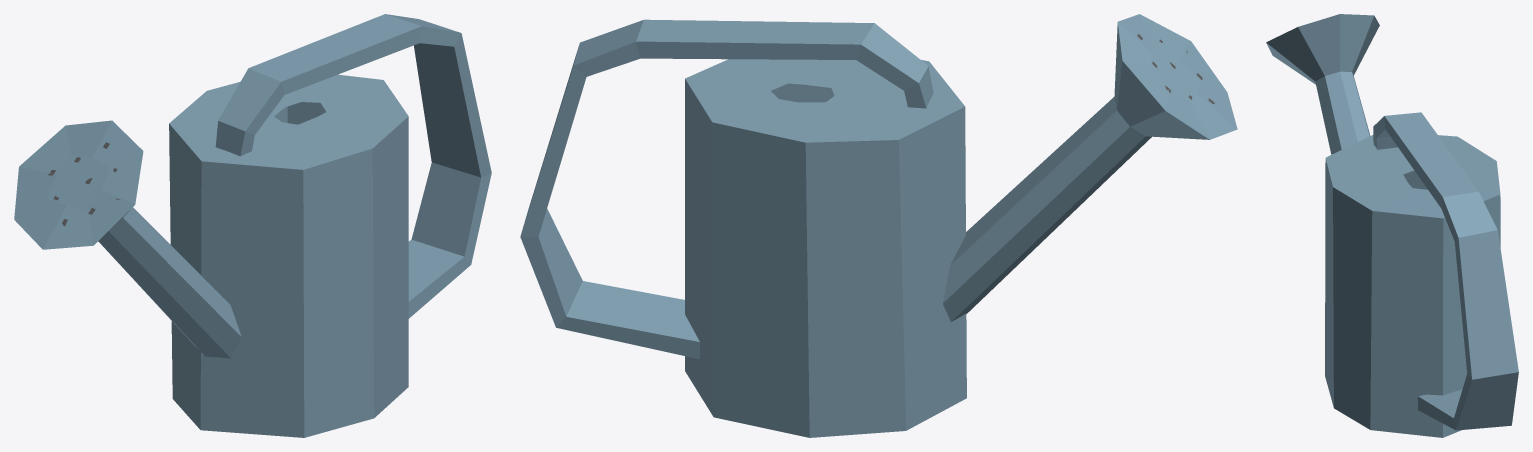
The model's file is WateringCan_1.fbx.
3 views of the same model, side by side, from view 1: azimuth 30°, elevation 25°; view 2: azimuth 150°, elevation 25°; view 3: azimuth 270°, elevation 25° (orthographic). The views are drawn at different scales.
Visible parts, largest first — view 1: WateringCan_1; view 2: WateringCan_1; view 3: WateringCan_1.
Part boxes in pixels (x1,y1,x2,y2): WateringCan_1: [14, 14, 491, 437]; WateringCan_1: [520, 14, 1237, 437]; WateringCan_1: [1266, 14, 1518, 437].
Bounding box in the file's own units: 61.51 × 29.95 × 38.17.
